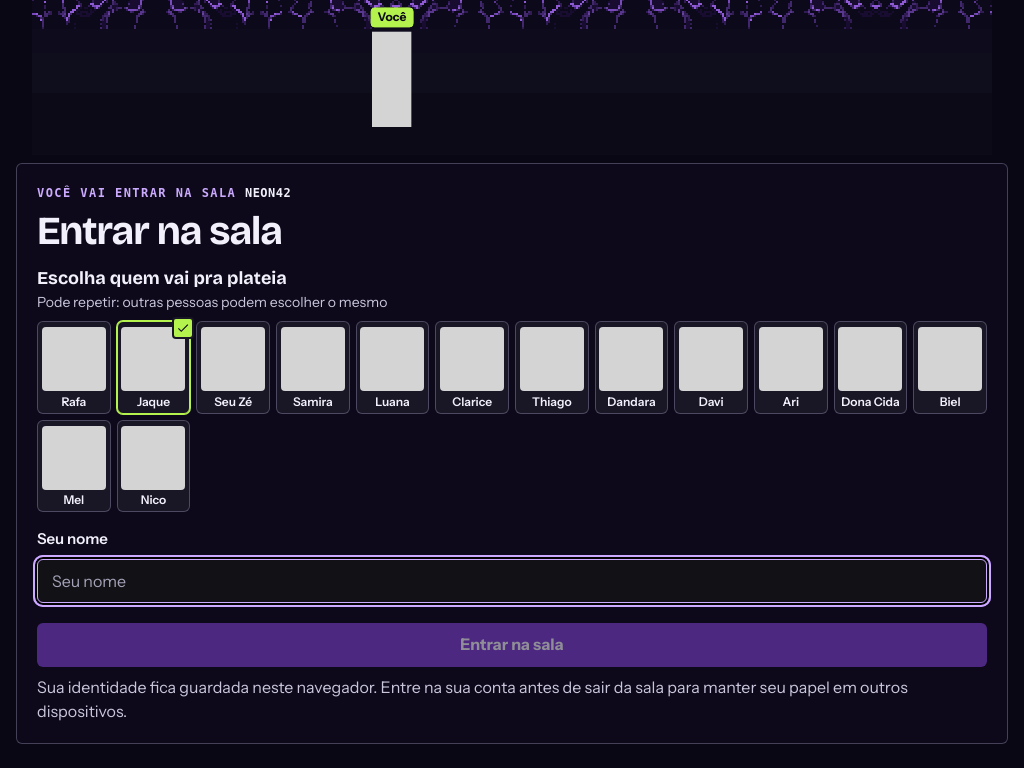
Test: RoomClient join failure states (#190) › renders the distinct server unreachable state in the alert
(page scrolled)
Type "Alice" into the field labelled "Seu nome" at point(512, 581), box x1=37 y1=559 x2=987 y2=603
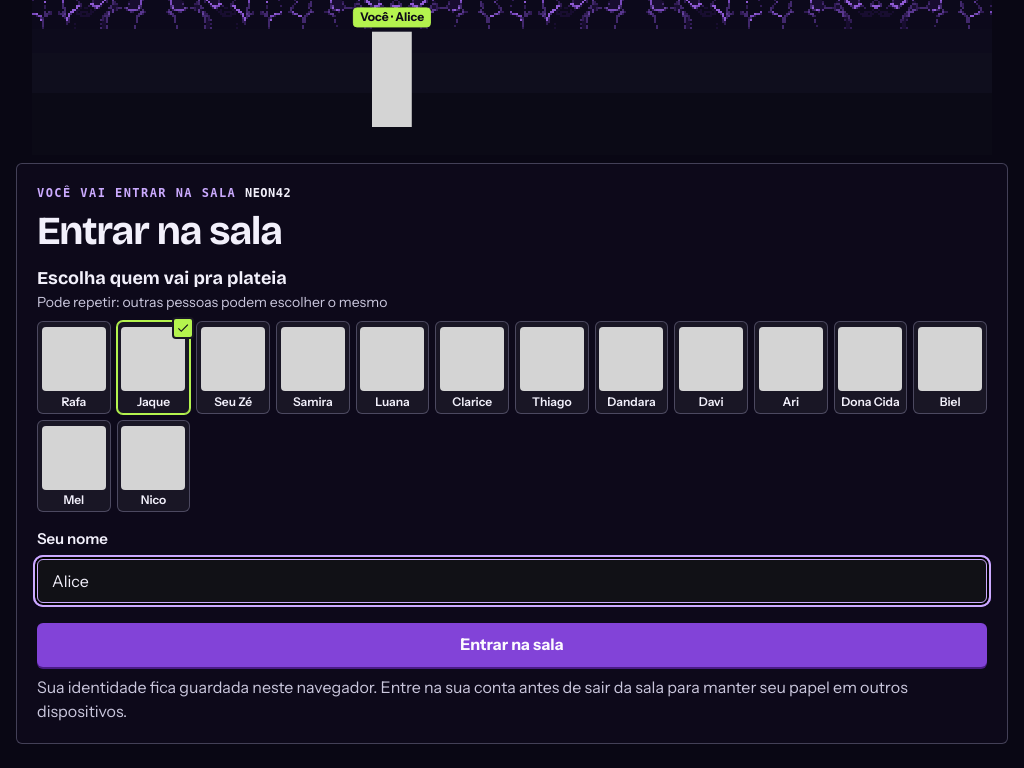
Click the button "Entrar na sala" at point(512, 645), box x1=37 y1=623 x2=987 y2=667
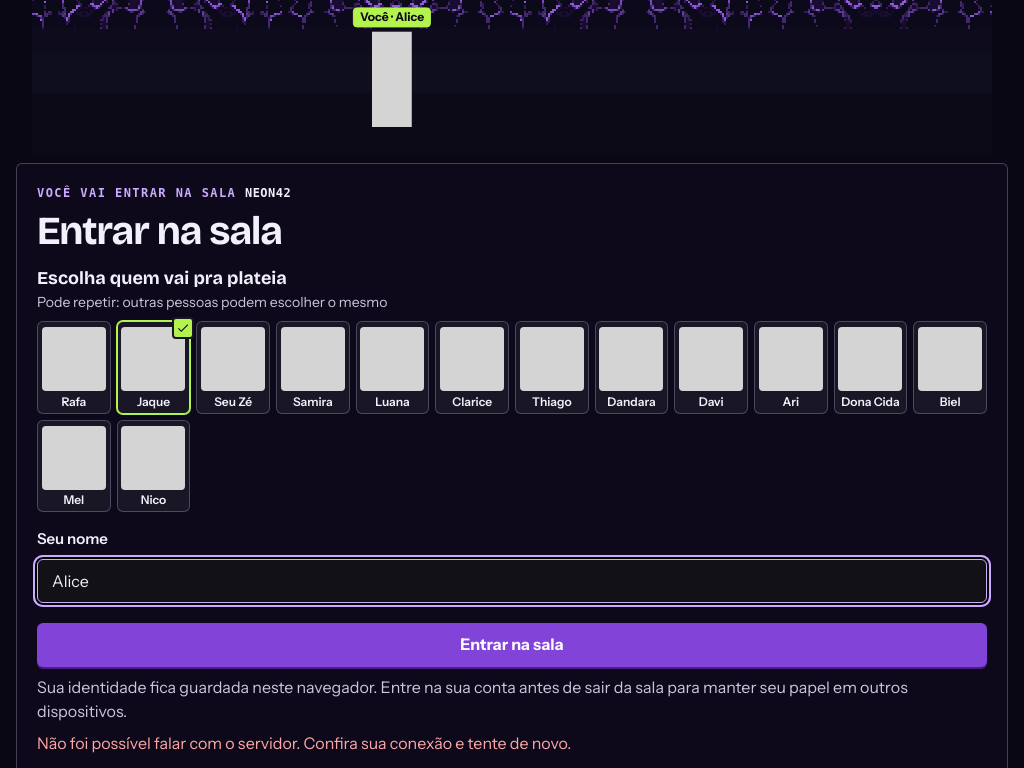
Result: the message reads "Não foi possível falar com o servidor. Confira sua conexão e tente de novo." at x1=37 y1=733 x2=571 y2=753
